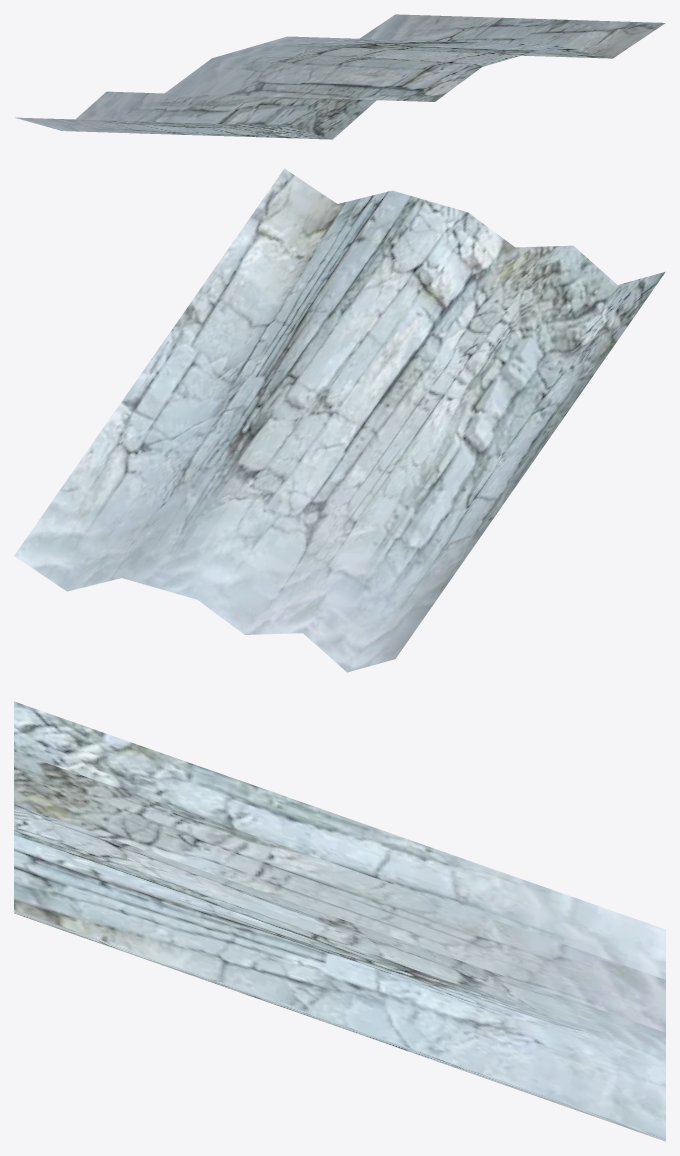
The picture shows the model from 3 angles, top to bottom: view 1: azimuth 30°, elevation 25°; view 2: azimuth 150°, elevation 25°; view 3: azimuth 270°, elevation 25°; orthographic projection. The views are drawn at different scales.
Visible parts, largest first — view 1: model_Object94; view 2: model_Object94; view 3: model_Object94.
Part boxes in pixels (bbox=[...]): model_Object94: bbox=[15, 14, 665, 139]; model_Object94: bbox=[14, 168, 665, 672]; model_Object94: bbox=[14, 701, 665, 1141].
Bounding box in the file's own units: 2.56 × 1.47 × 3.14.
Materials: 1 (1 with a texture image).
